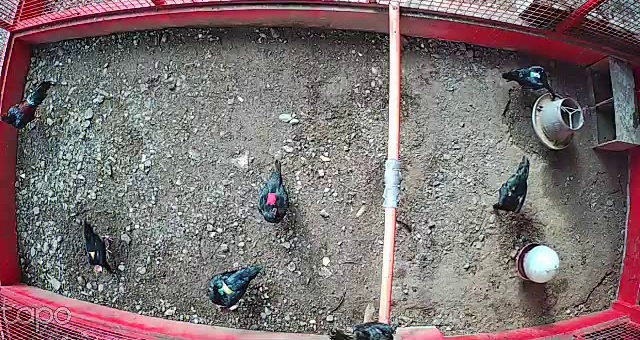Chicken: (205, 259, 263, 309), (497, 58, 558, 105), (491, 157, 536, 217), (75, 216, 119, 273), (257, 159, 291, 224)
Rooster: (0, 78, 59, 132)
Saddle_Color_Red: (267, 192, 278, 206)
Saddle_Color_Yellow: (87, 250, 99, 260)
Saddle_Color_YellowGreen: (214, 281, 233, 297)
